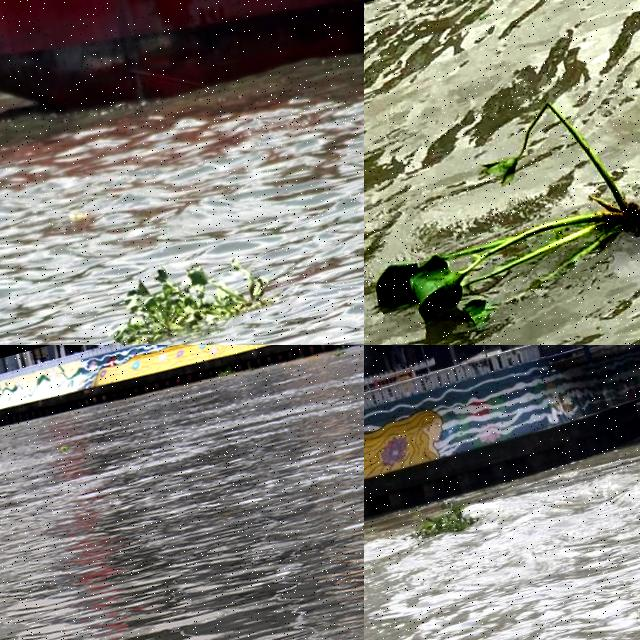water-hyacinth: (365, 97, 640, 346), (100, 248, 269, 346), (406, 497, 485, 555)
